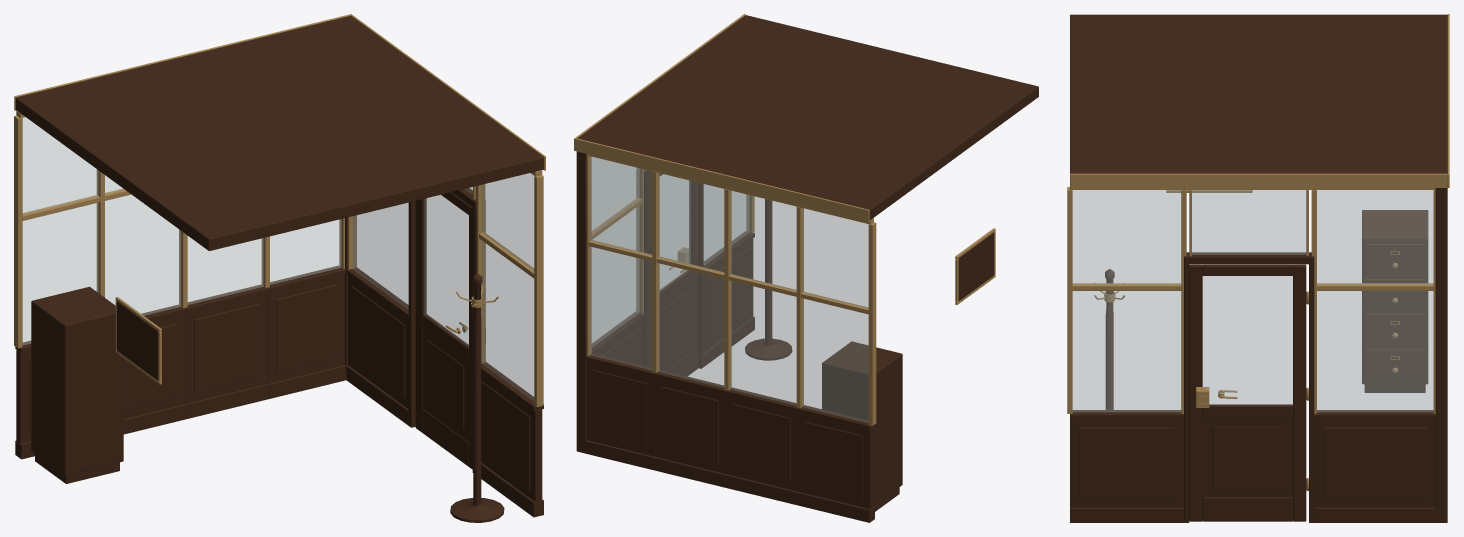
File: strand_office.glb
3 renders of one model, left to right at view 1: azimuth 30°, elevation 25°; view 2: azimuth 150°, elevation 25°; view 3: azimuth 270°, elevation 25°, orthographic. The views are drawn at different scales.
Parts seen in each view (by area): view 1: strand_office, IA_office_door; view 2: strand_office, IA_office_door; view 3: strand_office, IA_office_door.
Boxes of the visible parts, x1,y1,x2,y2 form: strand_office: (14,14,545,522); IA_office_door: (415,192,472,469); strand_office: (574,14,1038,522); IA_office_door: (647,173,698,376); strand_office: (1067,14,1449,522); IA_office_door: (1189,264,1306,521).
Size of the model in its own units: 2.92 by 2.9 by 2.88.
